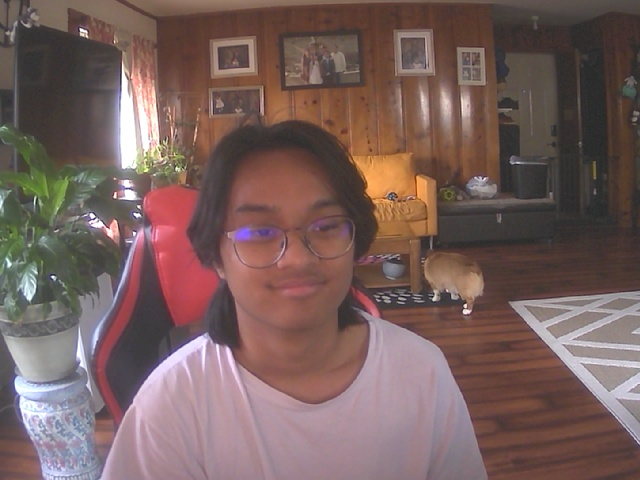happy: (210, 133, 367, 334)
